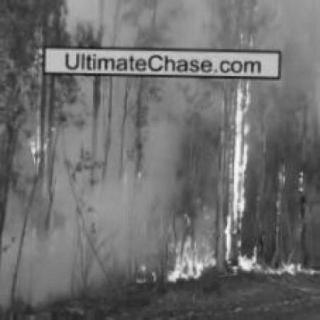Fire: (226, 22, 302, 276)
